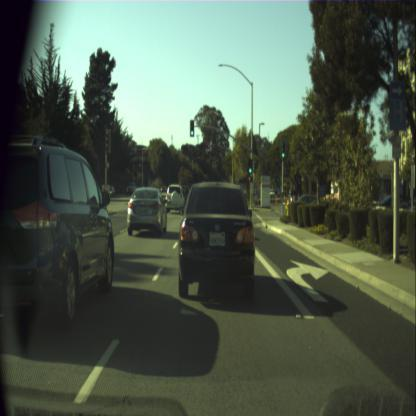Green: (190, 120, 194, 136), (248, 159, 252, 174), (282, 142, 284, 158)
